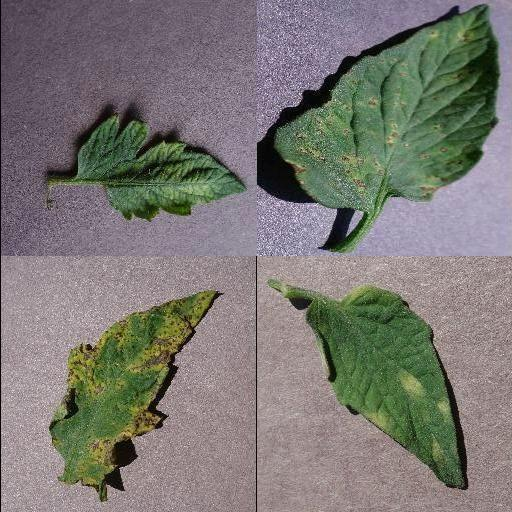Leaf Mold: (302, 287, 464, 490)
Mosaic Virus: (74, 113, 248, 221)
Septoria: (277, 4, 500, 212), (51, 288, 220, 500)
